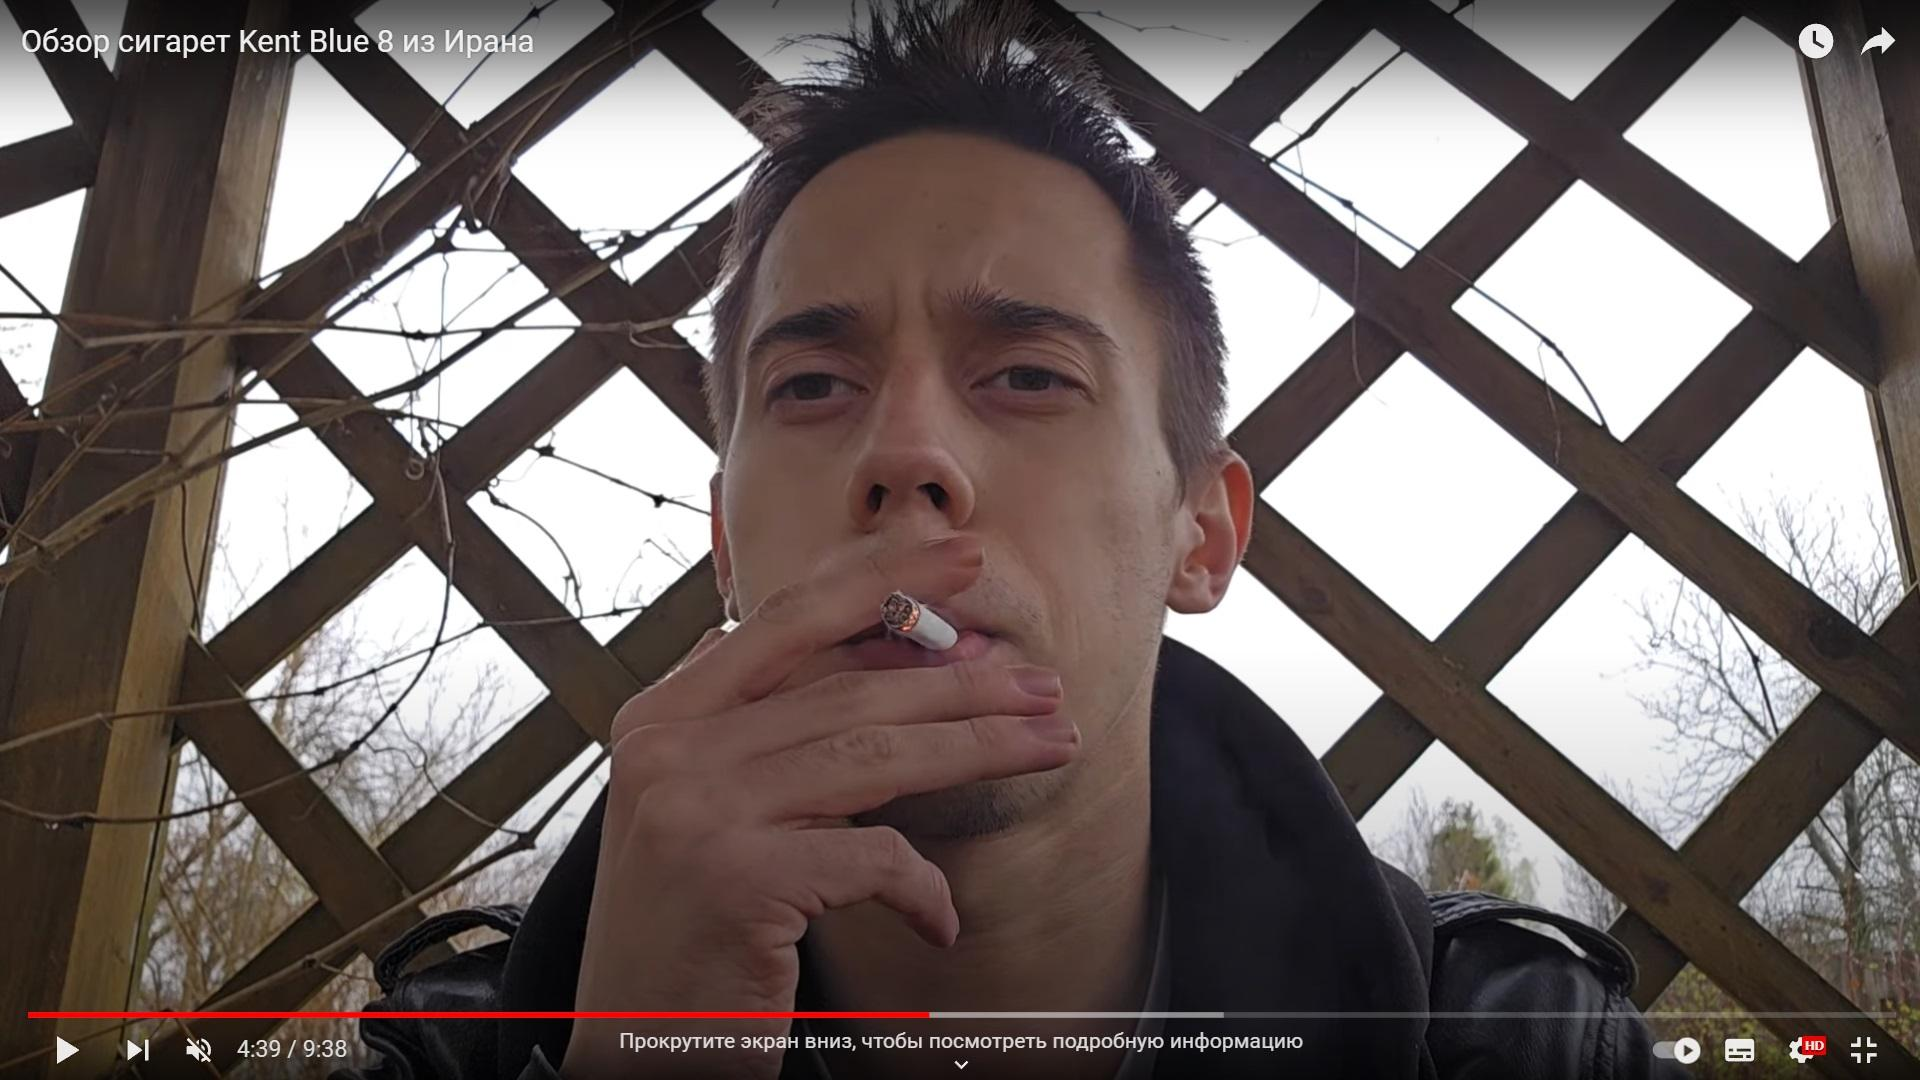cigarette: (880, 589, 959, 653)
